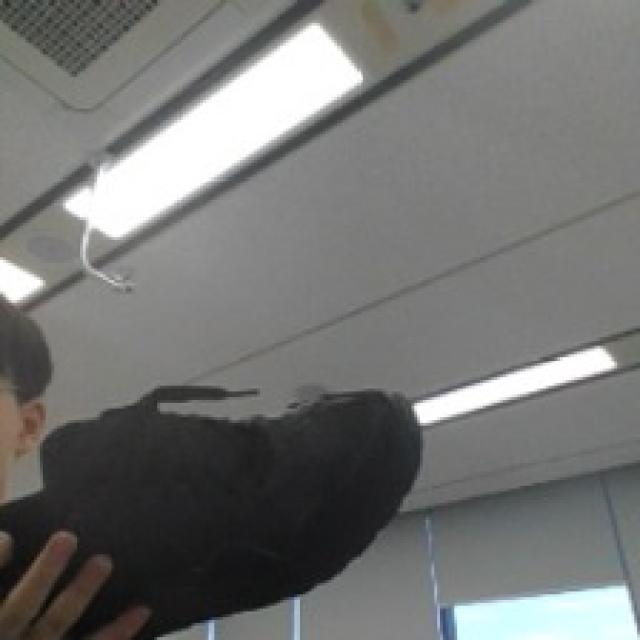shoe: (29, 357, 431, 640)
